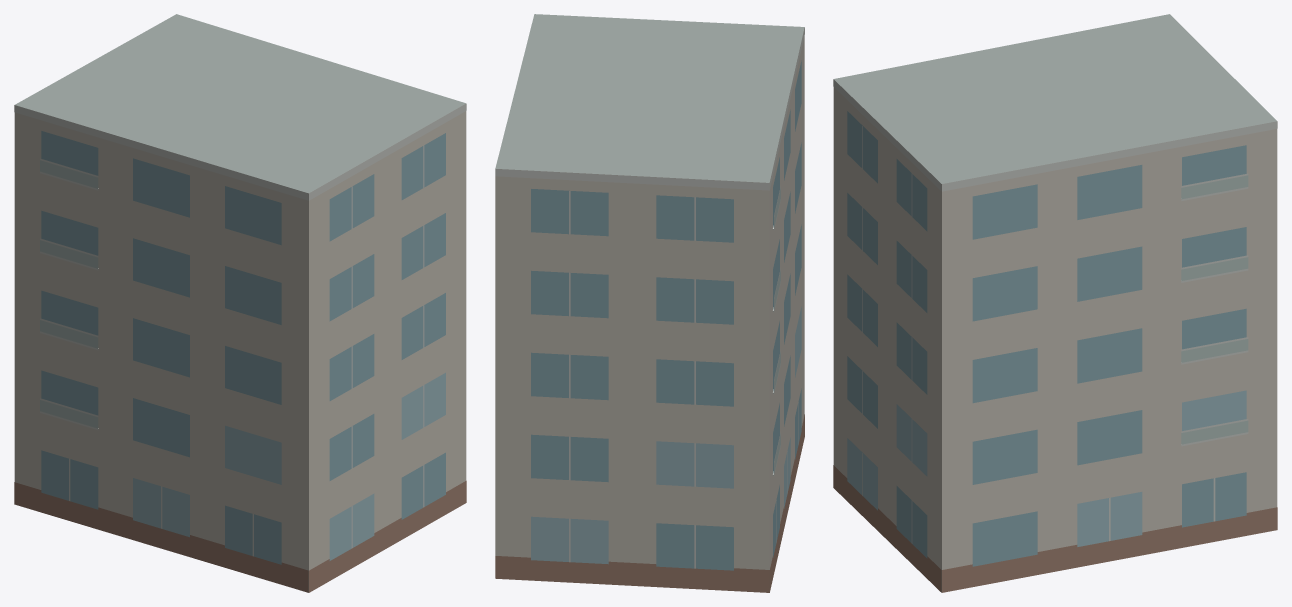
Rendered from survey-upis-32881675.glb.
The picture shows the model from 3 angles, left to right: view 1: azimuth 30°, elevation 25°; view 2: azimuth 150°, elevation 25°; view 3: azimuth 270°, elevation 25°; orthographic projection. The views are drawn at different scales.
Parts seen in each view (by area): view 1: survey-upis-32881675.tmp; view 2: survey-upis-32881675.tmp; view 3: survey-upis-32881675.tmp.
Boxes of the visible parts, x1,y1,x2,y2 form: survey-upis-32881675.tmp: [14, 14, 466, 592]; survey-upis-32881675.tmp: [495, 14, 804, 592]; survey-upis-32881675.tmp: [833, 14, 1277, 592].
Size of the model in its own units: 11.79 by 13.2 by 13.01.
